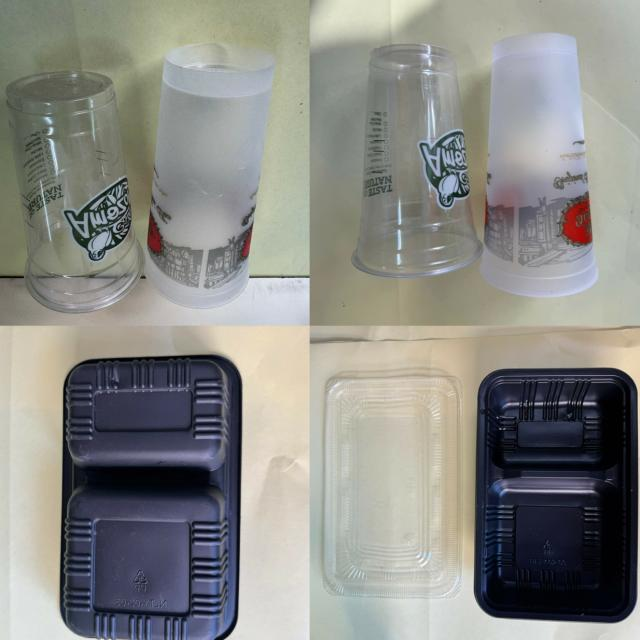plastik: (61, 357, 241, 640), (474, 369, 638, 623), (145, 45, 276, 308), (6, 72, 144, 313), (481, 33, 599, 297), (324, 376, 461, 598), (352, 45, 482, 278)
